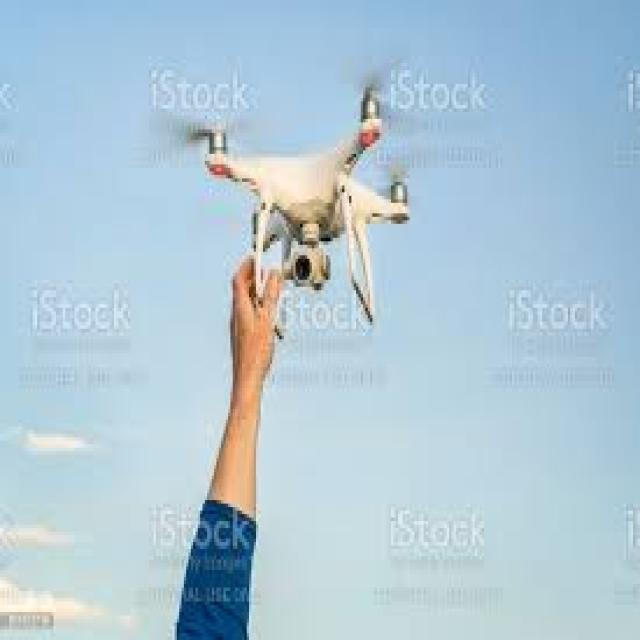drone: (163, 80, 471, 344)
